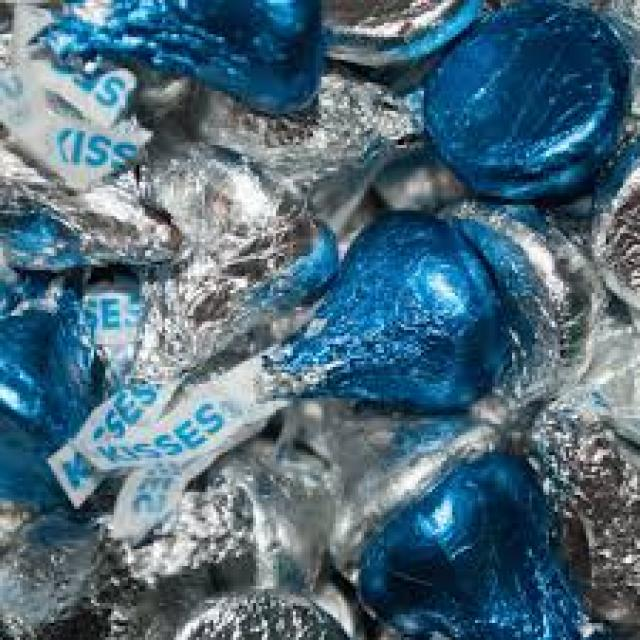kisses: (123, 129, 342, 416), (0, 45, 218, 310), (203, 47, 438, 251), (2, 463, 221, 640), (520, 369, 640, 628), (132, 541, 357, 640)
